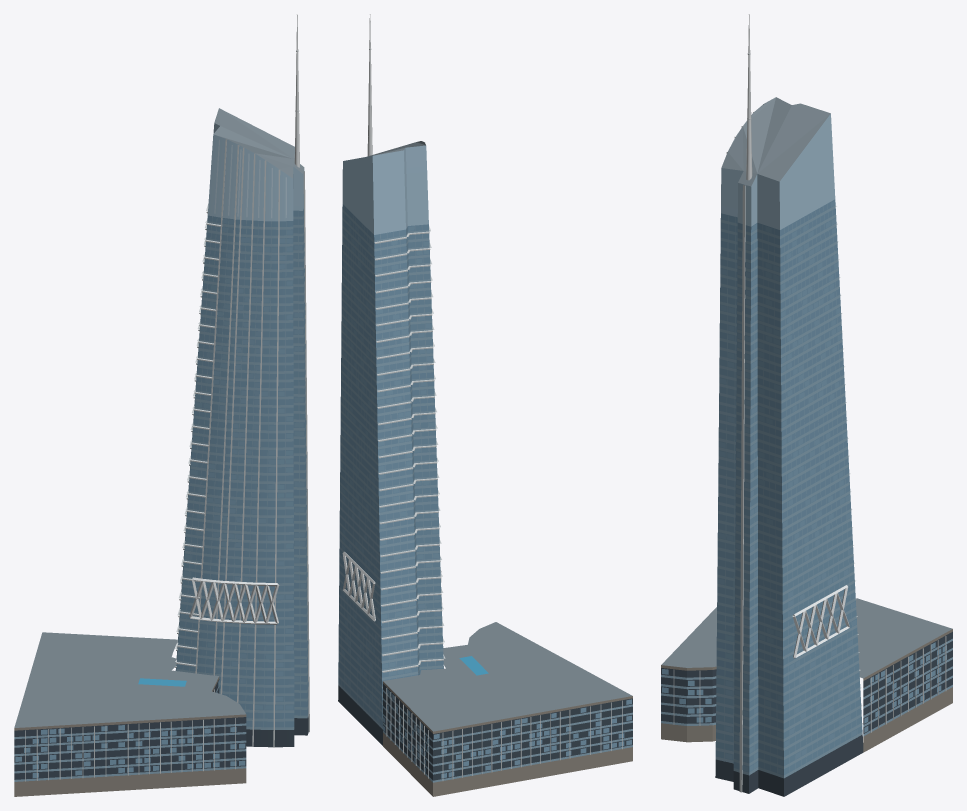
Rendered from wilshire-grand-center-near.glb.
3 renders of one model, left to right at view 1: azimuth 30°, elevation 25°; view 2: azimuth 150°, elevation 25°; view 3: azimuth 270°, elevation 25°, orthographic. The views are drawn at different scales.
Parts seen in each view (by area): view 1: wilshire-grand-center-0-glass, wilshire-grand-center-0-spandrel, wilshire-grand-center-0-roof, wilshire-grand-center-0-fin, wilshire-grand-center-0-pglass, wilshire-grand-center-0-glow, wilshire-grand-center-0-crown, wilshire-grand-center-0-stone, wilshire-grand-center-0-metal, wilshire-grand-center-0-light; view 2: wilshire-grand-center-0-glass, wilshire-grand-center-0-spandrel, wilshire-grand-center-0-roof, wilshire-grand-center-0-pglass, wilshire-grand-center-0-glow, wilshire-grand-center-0-fin, wilshire-grand-center-0-crown, wilshire-grand-center-0-stone, wilshire-grand-center-0-metal; view 3: wilshire-grand-center-0-glass, wilshire-grand-center-0-spandrel, wilshire-grand-center-0-roof, wilshire-grand-center-0-glow, wilshire-grand-center-0-pglass, wilshire-grand-center-0-crown, wilshire-grand-center-0-fin, wilshire-grand-center-0-stone, wilshire-grand-center-0-metal.
Part boxes in pixels (x1,y1,x2,y2): wilshire-grand-center-0-glass: [175, 209, 308, 727]; wilshire-grand-center-0-spandrel: [14, 211, 308, 781]; wilshire-grand-center-0-roof: [14, 108, 304, 727]; wilshire-grand-center-0-fin: [25, 50, 309, 781]; wilshire-grand-center-0-pglass: [14, 679, 308, 779]; wilshire-grand-center-0-glow: [15, 218, 308, 777]; wilshire-grand-center-0-crown: [207, 123, 304, 221]; wilshire-grand-center-0-stone: [14, 676, 246, 796]; wilshire-grand-center-0-metal: [189, 15, 299, 624]; wilshire-grand-center-0-light: [214, 139, 286, 218]; wilshire-grand-center-0-glass: [338, 204, 443, 726]; wilshire-grand-center-0-spandrel: [338, 206, 632, 782]; wilshire-grand-center-0-roof: [367, 141, 632, 731]; wilshire-grand-center-0-pglass: [338, 684, 632, 780]; wilshire-grand-center-0-glow: [338, 219, 631, 778]; wilshire-grand-center-0-fin: [368, 48, 622, 780]; wilshire-grand-center-0-crown: [342, 145, 428, 234]; wilshire-grand-center-0-stone: [383, 681, 632, 796]; wilshire-grand-center-0-metal: [342, 15, 442, 621]; wilshire-grand-center-0-glass: [715, 199, 862, 775]; wilshire-grand-center-0-spandrel: [661, 201, 952, 778]; wilshire-grand-center-0-roof: [661, 97, 952, 678]; wilshire-grand-center-0-glow: [662, 200, 946, 774]; wilshire-grand-center-0-pglass: [661, 631, 952, 796]; wilshire-grand-center-0-crown: [721, 114, 835, 229]; wilshire-grand-center-0-fin: [673, 53, 946, 792]; wilshire-grand-center-0-stone: [661, 629, 952, 752]; wilshire-grand-center-0-metal: [746, 15, 849, 658].
Bounding box in the file's own units: 146 × 335 × 115.
